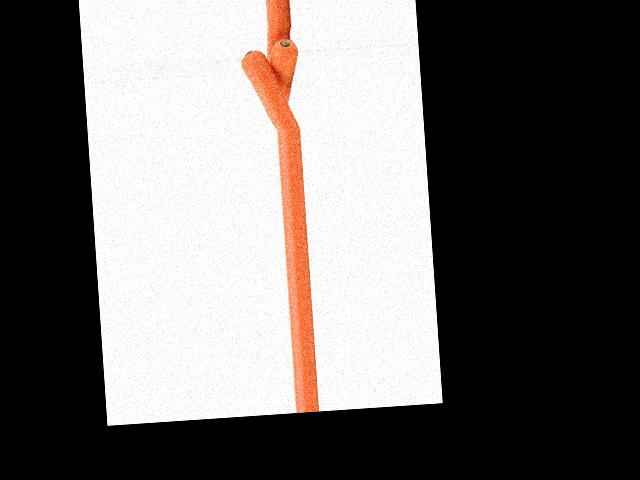carrot: (269, 34, 299, 107)
